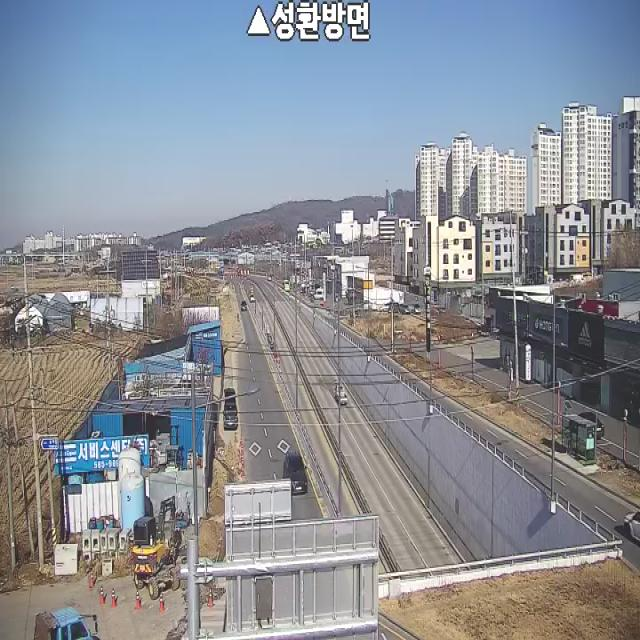Bus: (284, 280, 290, 292)
Car: (283, 450, 308, 494), (573, 411, 604, 441), (623, 510, 640, 542), (241, 300, 247, 310)
Truck: (125, 490, 183, 607), (34, 607, 99, 640), (223, 388, 237, 428), (334, 379, 349, 405)
